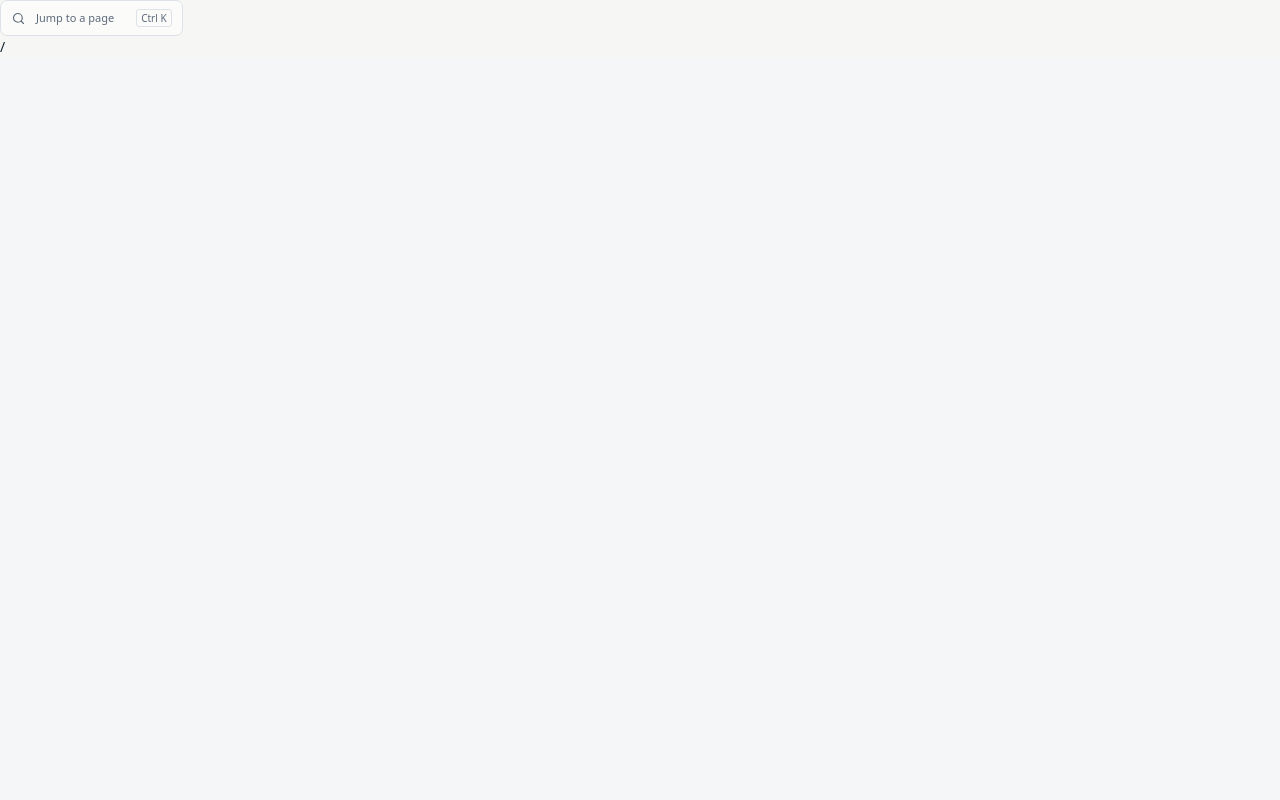
Test: page navigation opens by keyboard, filters destinations, and follows the selected route
Press k
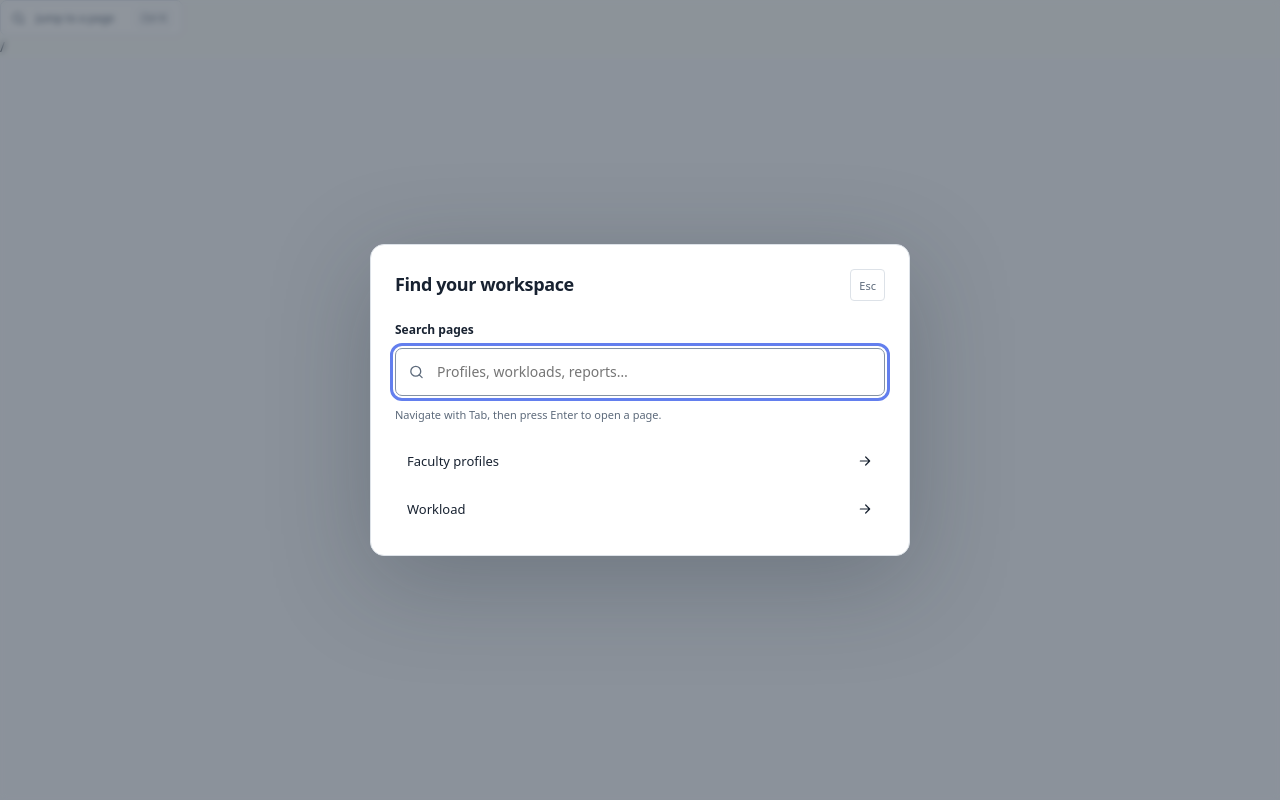
In the field labelled "Search pages": (654, 372) 435,349 -> 872,395, type "faculty"
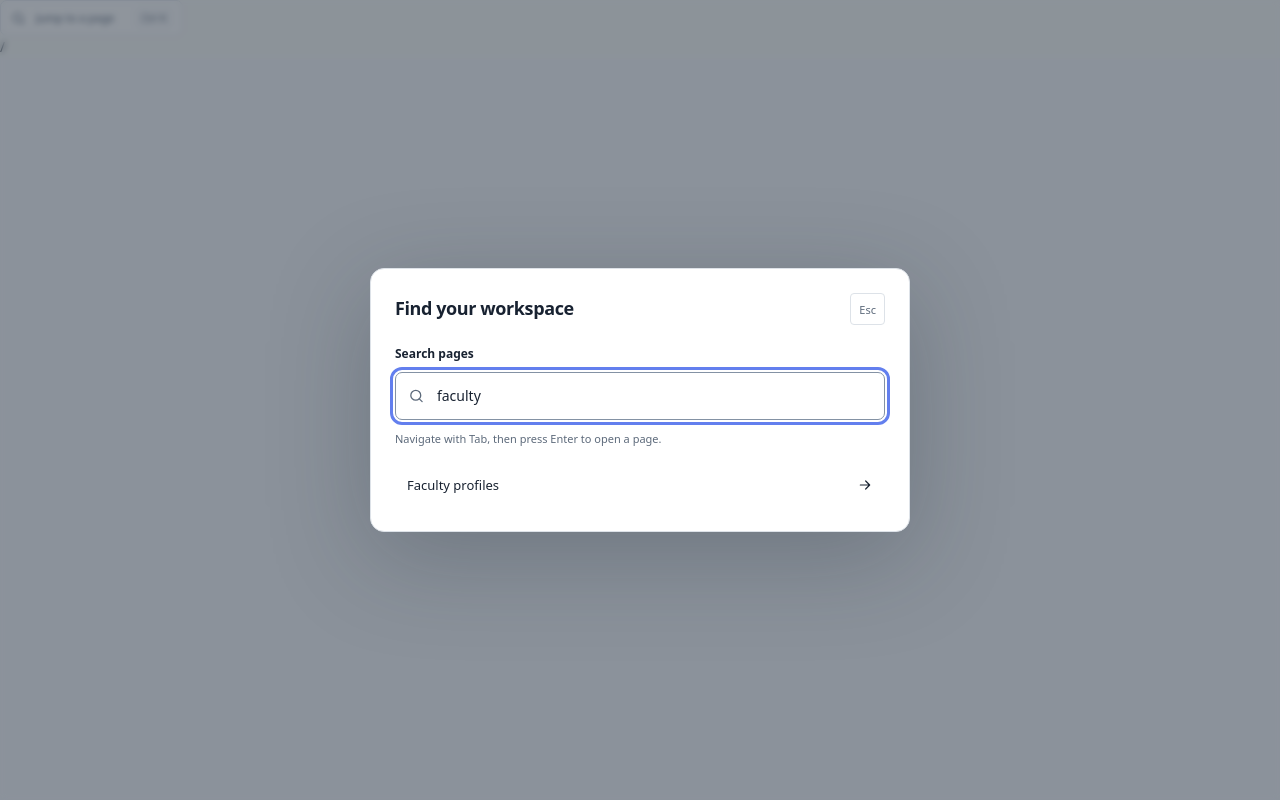
Check: the link "Workload" is gone
Click the link "Faculty profiles": (453, 485) 407,476 -> 873,494
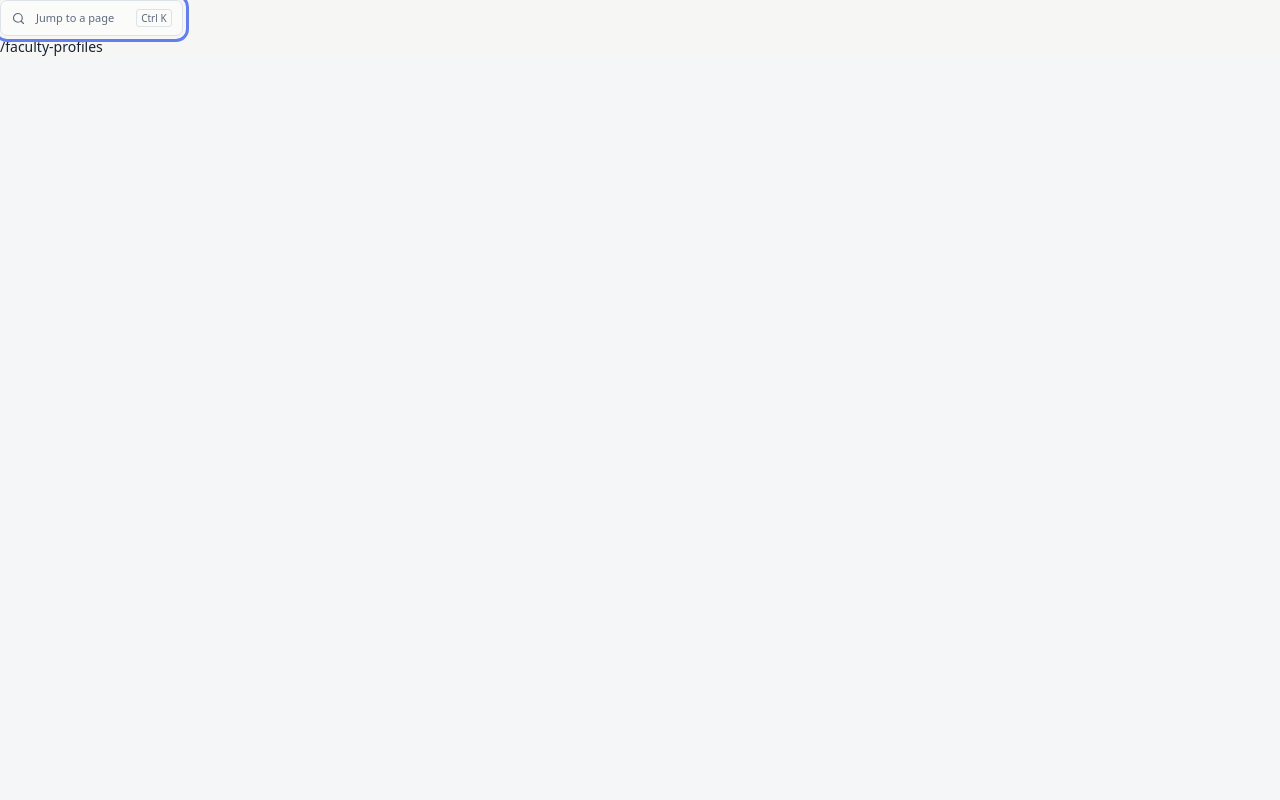
Check: the text named "Current path" reads "/faculty-profiles", box 0,37 -> 103,56
Check: the dialog is gone
